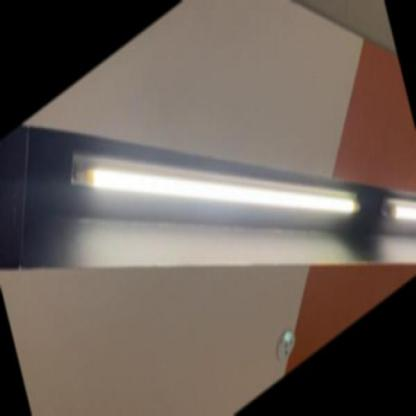light_on: (58, 0, 372, 414), (376, 161, 416, 270)
